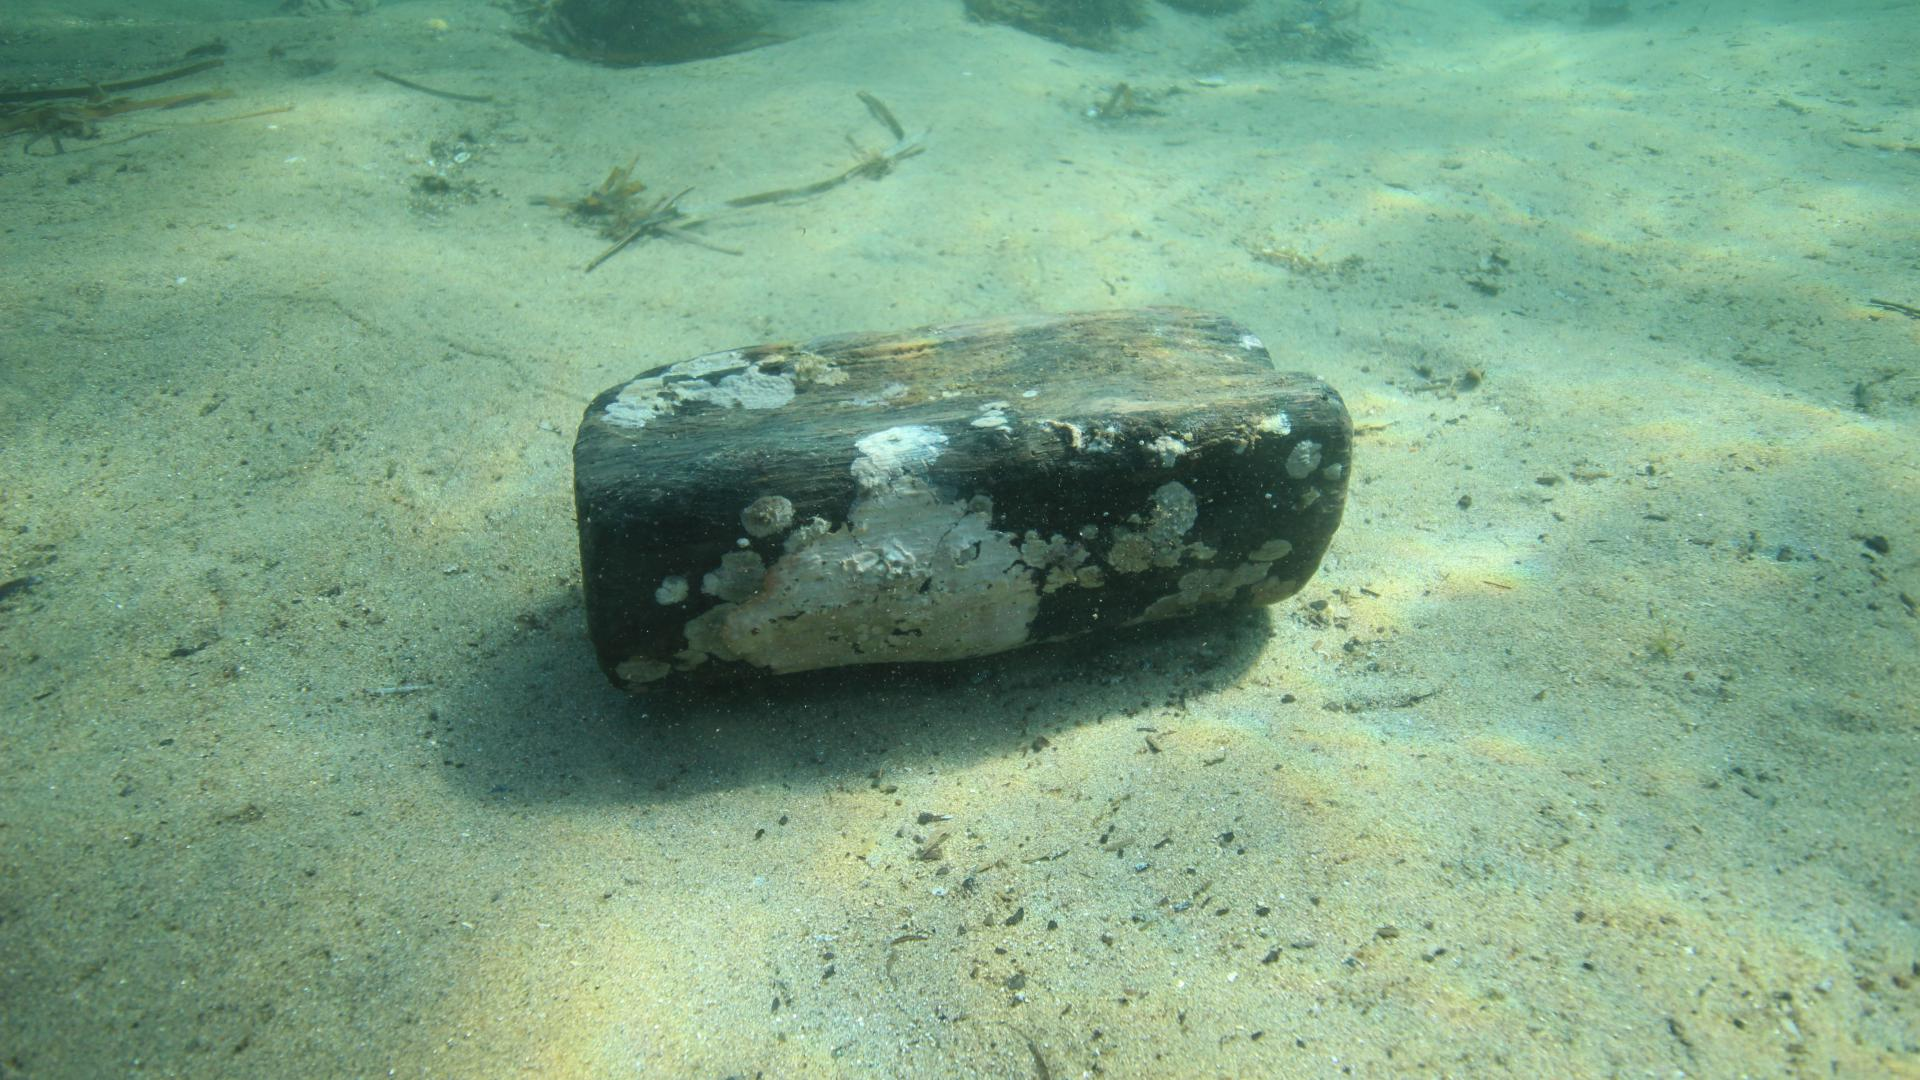wood: (574, 309, 1352, 699)
